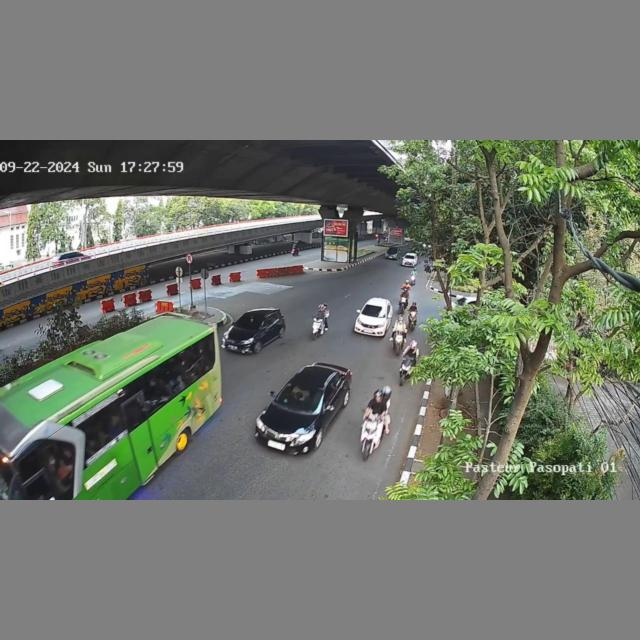windshield: (274, 381, 327, 414), (235, 314, 262, 332), (360, 303, 388, 319)
